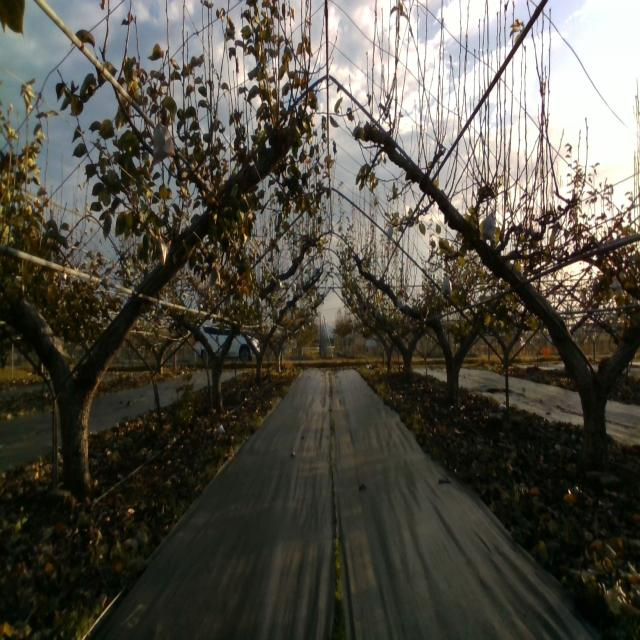pearbags: (153, 117, 176, 166), (483, 213, 496, 249), (156, 228, 167, 266), (440, 278, 452, 296)
